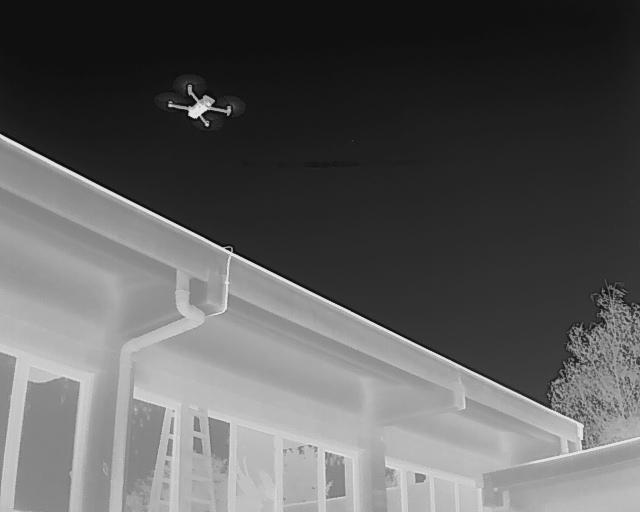drone: (148, 72, 250, 139)
